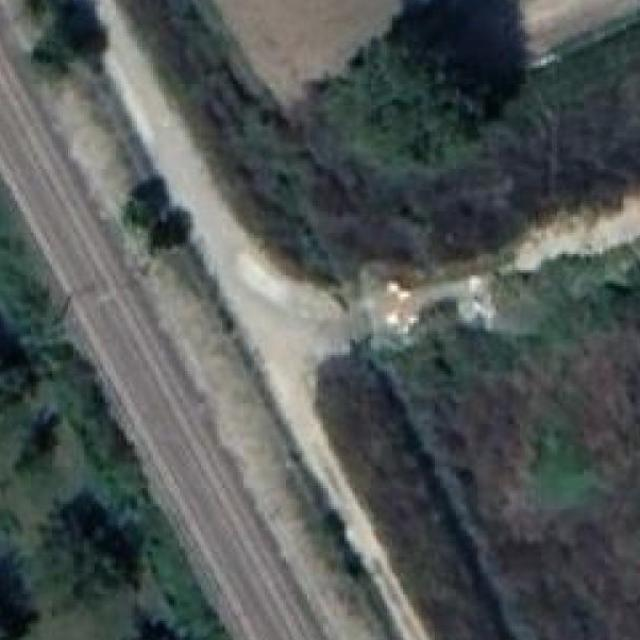Tree: (347, 0, 522, 164), (38, 491, 161, 611), (12, 0, 105, 79), (126, 178, 190, 252), (0, 543, 42, 639), (14, 412, 59, 478), (110, 610, 208, 640), (0, 347, 40, 406)
